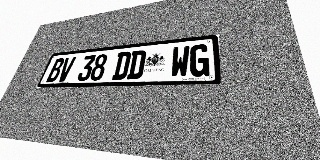3: (76, 55, 96, 81)
8: (89, 53, 109, 81)
B: (46, 58, 65, 82)
D: (111, 51, 132, 80), (126, 50, 147, 79)
G: (189, 44, 209, 77)
V: (56, 57, 76, 82)
W: (170, 45, 190, 78)
